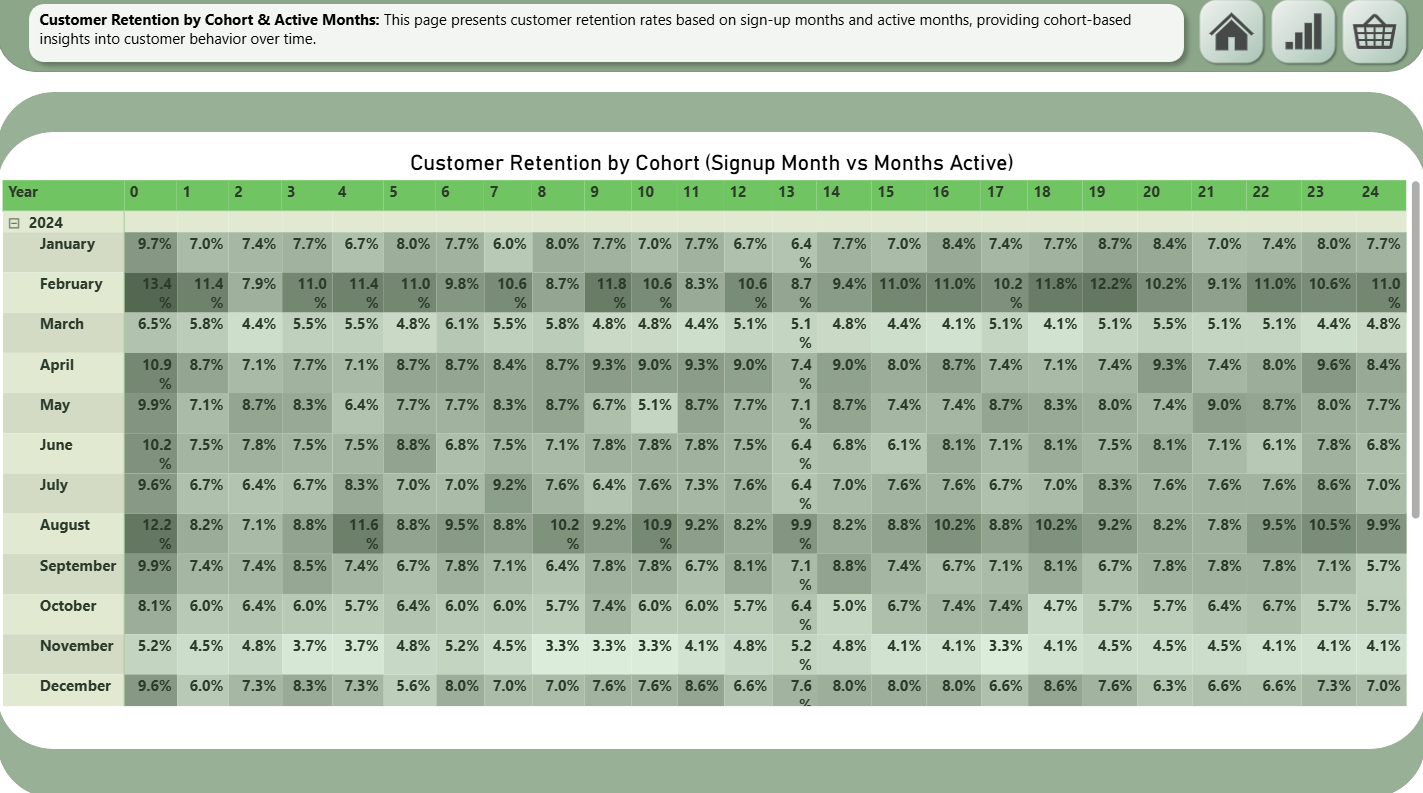

What the dashboard file says about the page in this screenshot:
{"tool":"powerbi","page":{"name":"Customer Retention","canvas":[1280,720],"ordinal":3},"visuals":[{"type":"shape","box":[0,87.8,1279.7,632.2],"z":0},{"type":"shape","box":[0,0,1279.7,69.9],"z":1000},{"type":"actionButton","box":[1071.9,0,70.7,69.9],"z":2000},{"type":"actionButton","box":[1136.4,0,69.9,69.9],"z":3000},{"type":"shape","box":[0,123.6,1279.7,552.5],"z":4000},{"type":"pivotTable","title":"Customer Retention by Cohort (Signup Month vs Months Active)","fields":{"Columns":["Month Index.Value"],"Values":["Cohorts.Retention %"],"Rows":["Cohorts.Signup Month.Variation.Date Hierarchy.Year","Cohorts.Signup Month.Variation.Date Hierarchy.Month"]},"box":[0,139.7,1279.7,503.3],"z":5000},{"type":"actionButton","box":[1199.7,0,70,70],"z":6000},{"type":"shape","box":[19.7,0,1052.2,69.9],"z":7000},{"type":"textbox","box":[33.1,9,1025.4,48.4],"z":8000}]}

Visuals, with their boxes in screenshot pixels (x1, y1, x2, y2), scaled from the page's 1280x720 canvas onto the 1423x793 screenshot:
shape: 0, 97, 1422, 792
shape: 0, 0, 1422, 77
actionButton: 1192, 0, 1270, 77
actionButton: 1263, 0, 1341, 77
shape: 0, 136, 1422, 745
"Customer Retention by Cohort (Signup Month vs Months Active)" pivotTable: 0, 154, 1422, 708
actionButton: 1334, 0, 1412, 77
shape: 22, 0, 1192, 77
textbox: 37, 10, 1177, 63
